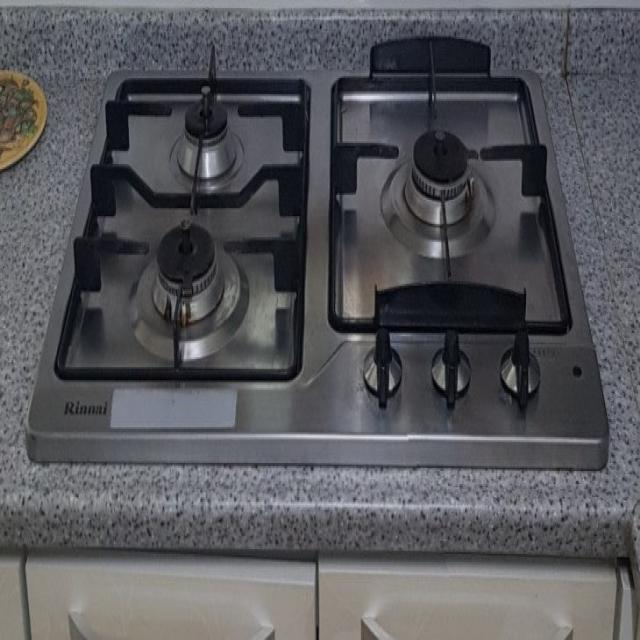knob_ON: (86, 65, 549, 363)
